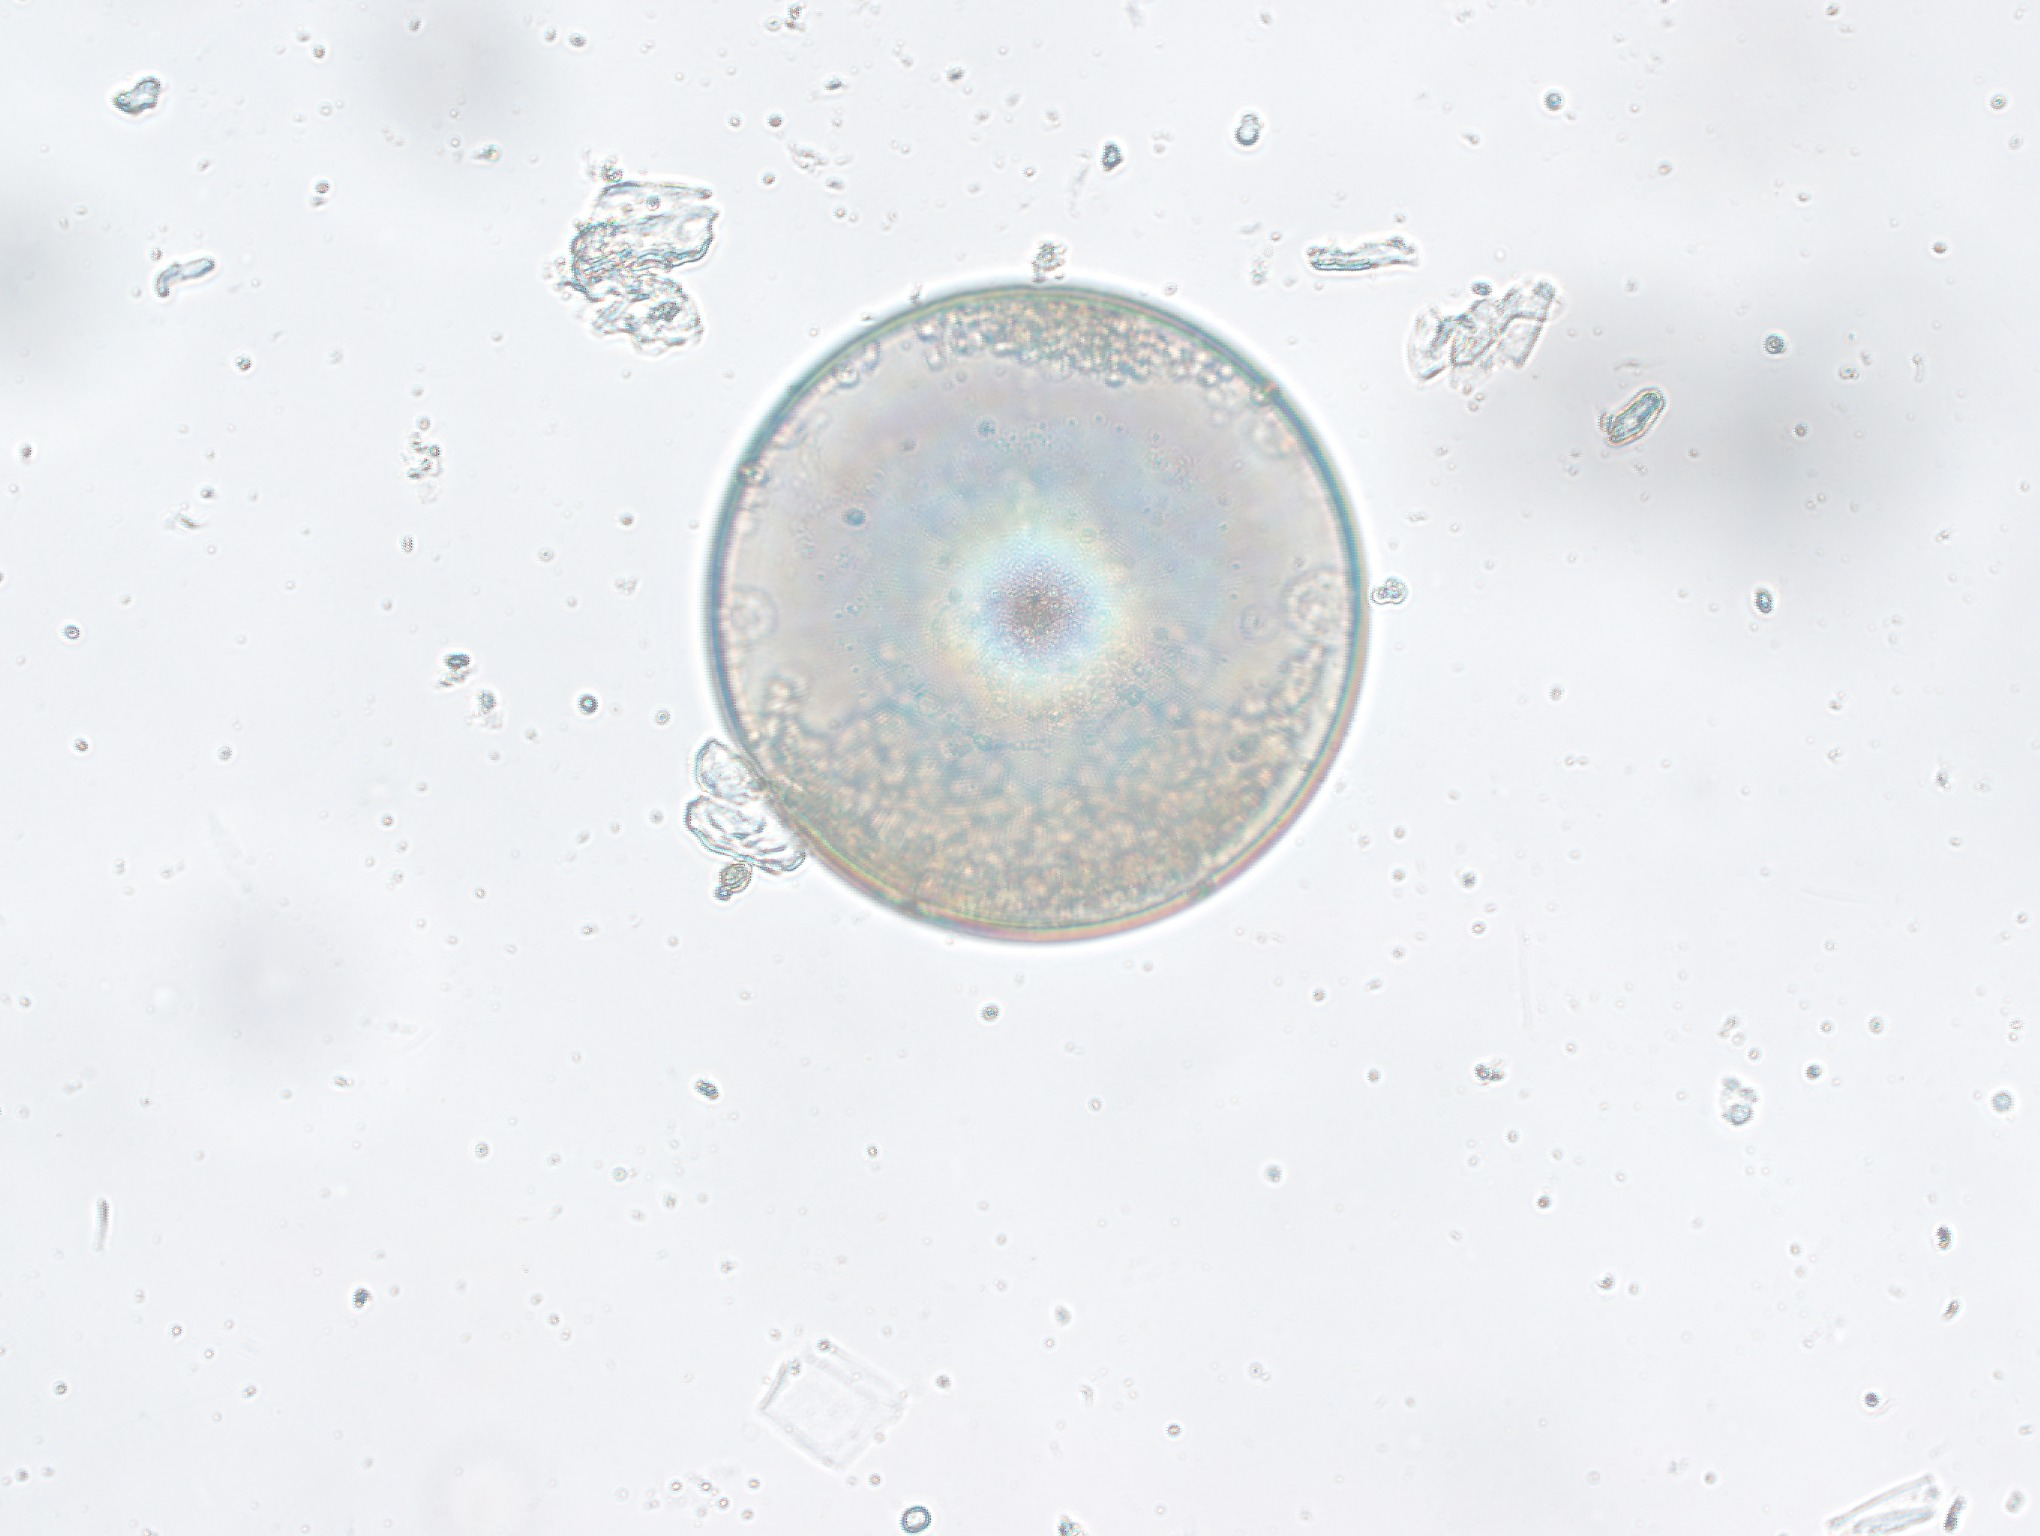coscinodiscus: (702, 279, 1379, 950)
